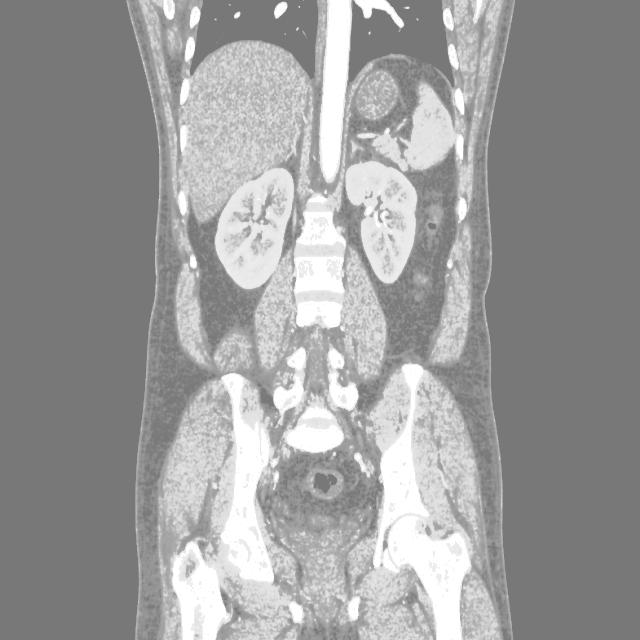NORMAL: (108, 44, 557, 533)
